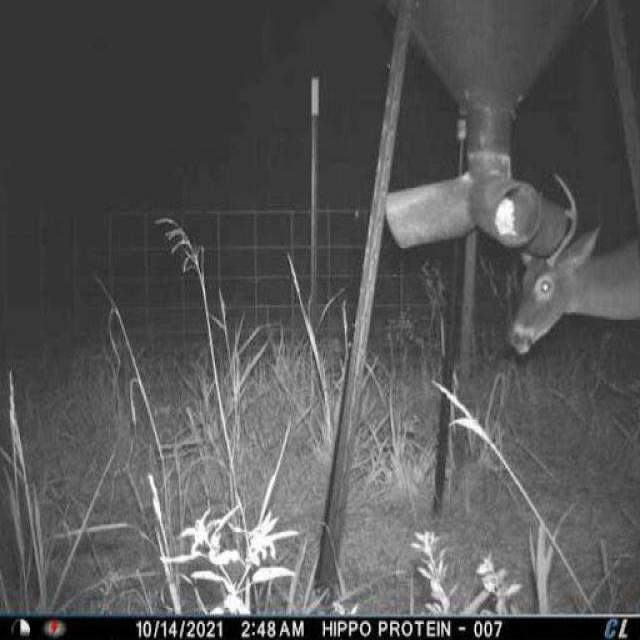deer: (502, 162, 640, 366)
